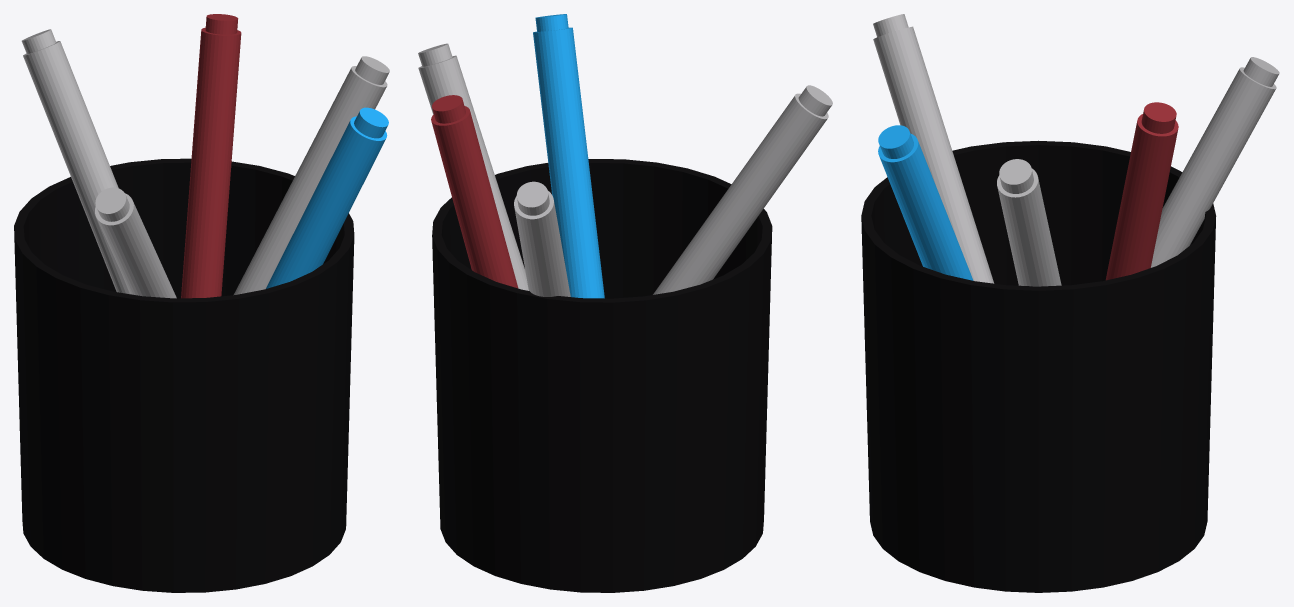
Rendered from Stiftehalter.fbx.
3 views of the same model, side by side, from view 1: azimuth 30°, elevation 25°; view 2: azimuth 150°, elevation 25°; view 3: azimuth 270°, elevation 25° (orthographic). The views are drawn at different scales.
Parts seen in each view (by area): view 1: StifteBecher; view 2: StifteBecher; view 3: StifteBecher.
Part boxes in pixels (box(x1,y1,x2,y2)): StifteBecher: box(14, 14, 389, 592); StifteBecher: box(418, 14, 832, 592); StifteBecher: box(861, 14, 1279, 592).
Bounding box in the file's own units: 14.39 × 17.43 × 14.3.
